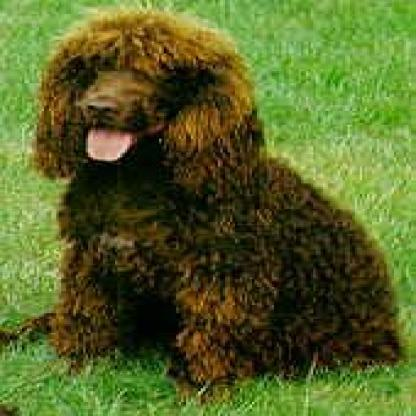Irish_water_spaniel: (30, 2, 406, 390)
